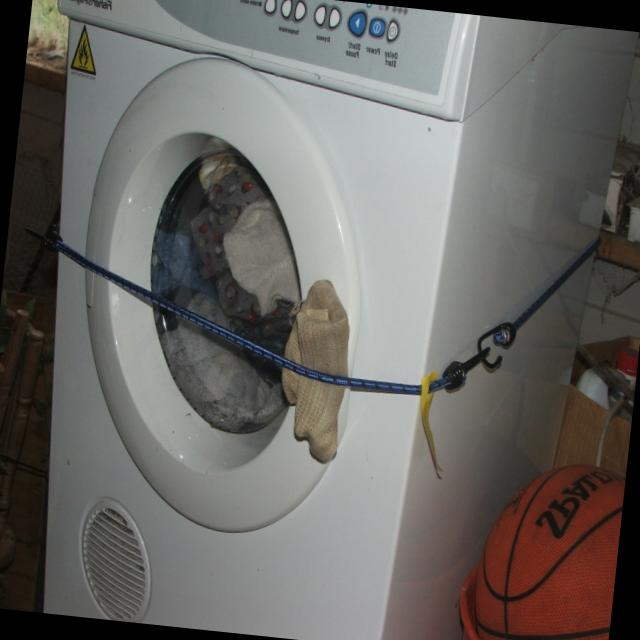Ball: (467, 454, 626, 640)
